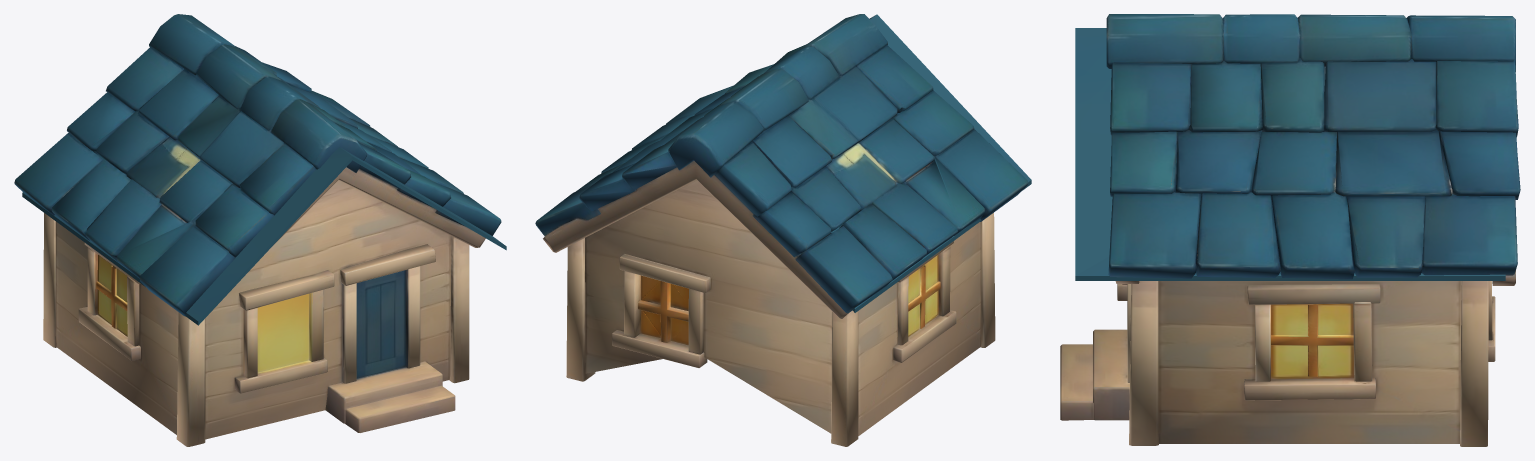
Rendered from house-teal.glb.
3 views of the same model, side by side, from view 1: azimuth 30°, elevation 25°; view 2: azimuth 150°, elevation 25°; view 3: azimuth 270°, elevation 25° (orthographic). The views are drawn at different scales.
Parts seen in each view (by area): view 1: tripo_node_70f36040-ad79-4bfb-a78c-09bcd0fd79c7; view 2: tripo_node_70f36040-ad79-4bfb-a78c-09bcd0fd79c7; view 3: tripo_node_70f36040-ad79-4bfb-a78c-09bcd0fd79c7.
Part boxes in pixels (left/top/right/bottom): tripo_node_70f36040-ad79-4bfb-a78c-09bcd0fd79c7: left=14, top=14, right=506, bottom=446; tripo_node_70f36040-ad79-4bfb-a78c-09bcd0fd79c7: left=535, top=14, right=1031, bottom=446; tripo_node_70f36040-ad79-4bfb-a78c-09bcd0fd79c7: left=1060, top=14, right=1520, bottom=446.
Size of the model in its own units: 4.19 by 3.5 by 4.17.
Materials: 1 (1 with a texture image).
